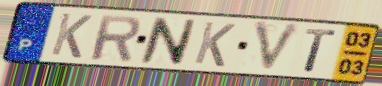K: (48, 11, 95, 61), (191, 20, 238, 69)
N: (137, 16, 199, 68)
R: (89, 13, 143, 63)
T: (302, 26, 338, 74)
V: (252, 20, 305, 75)
